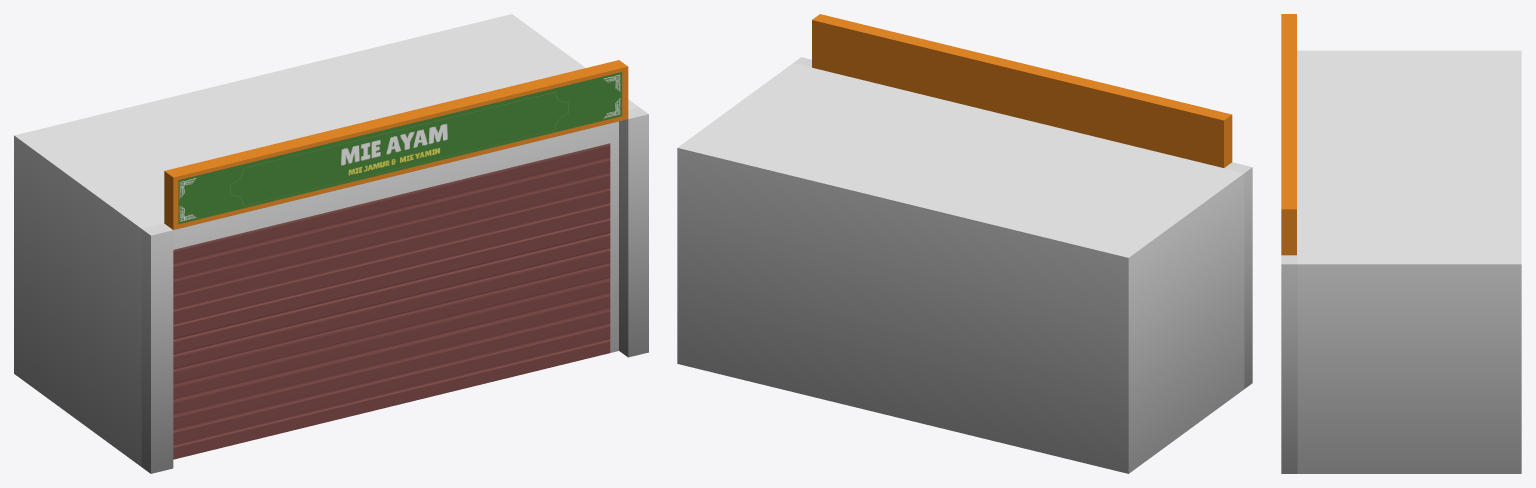
The model's file is KantinSekolah.fbx.
3 views of the same model, side by side, from view 1: azimuth 30°, elevation 25°; view 2: azimuth 150°, elevation 25°; view 3: azimuth 270°, elevation 25° (orthographic). The views are drawn at different scales.
Visible parts, largest first — view 1: KantinSekolah_LOD0, RollingDoorKantinTutup_LOD0, BannerKantinSekolah_LOD0; view 2: KantinSekolah_LOD0, BannerKantinSekolah_LOD0; view 3: KantinSekolah_LOD0, BannerKantinSekolah_LOD0.
Boxes of the visible parts, x1,y1,x2,y2 form: KantinSekolah_LOD0: (14,14,648,473); RollingDoorKantinTutup_LOD0: (173,143,610,459); BannerKantinSekolah_LOD0: (164,60,628,229); KantinSekolah_LOD0: (677,57,1252,473); BannerKantinSekolah_LOD0: (812,14,1232,167); KantinSekolah_LOD0: (1281,50,1521,473); BannerKantinSekolah_LOD0: (1281,14,1296,255).
Size of what is drawn, in the model's own units: 1062 by 593 by 505.
